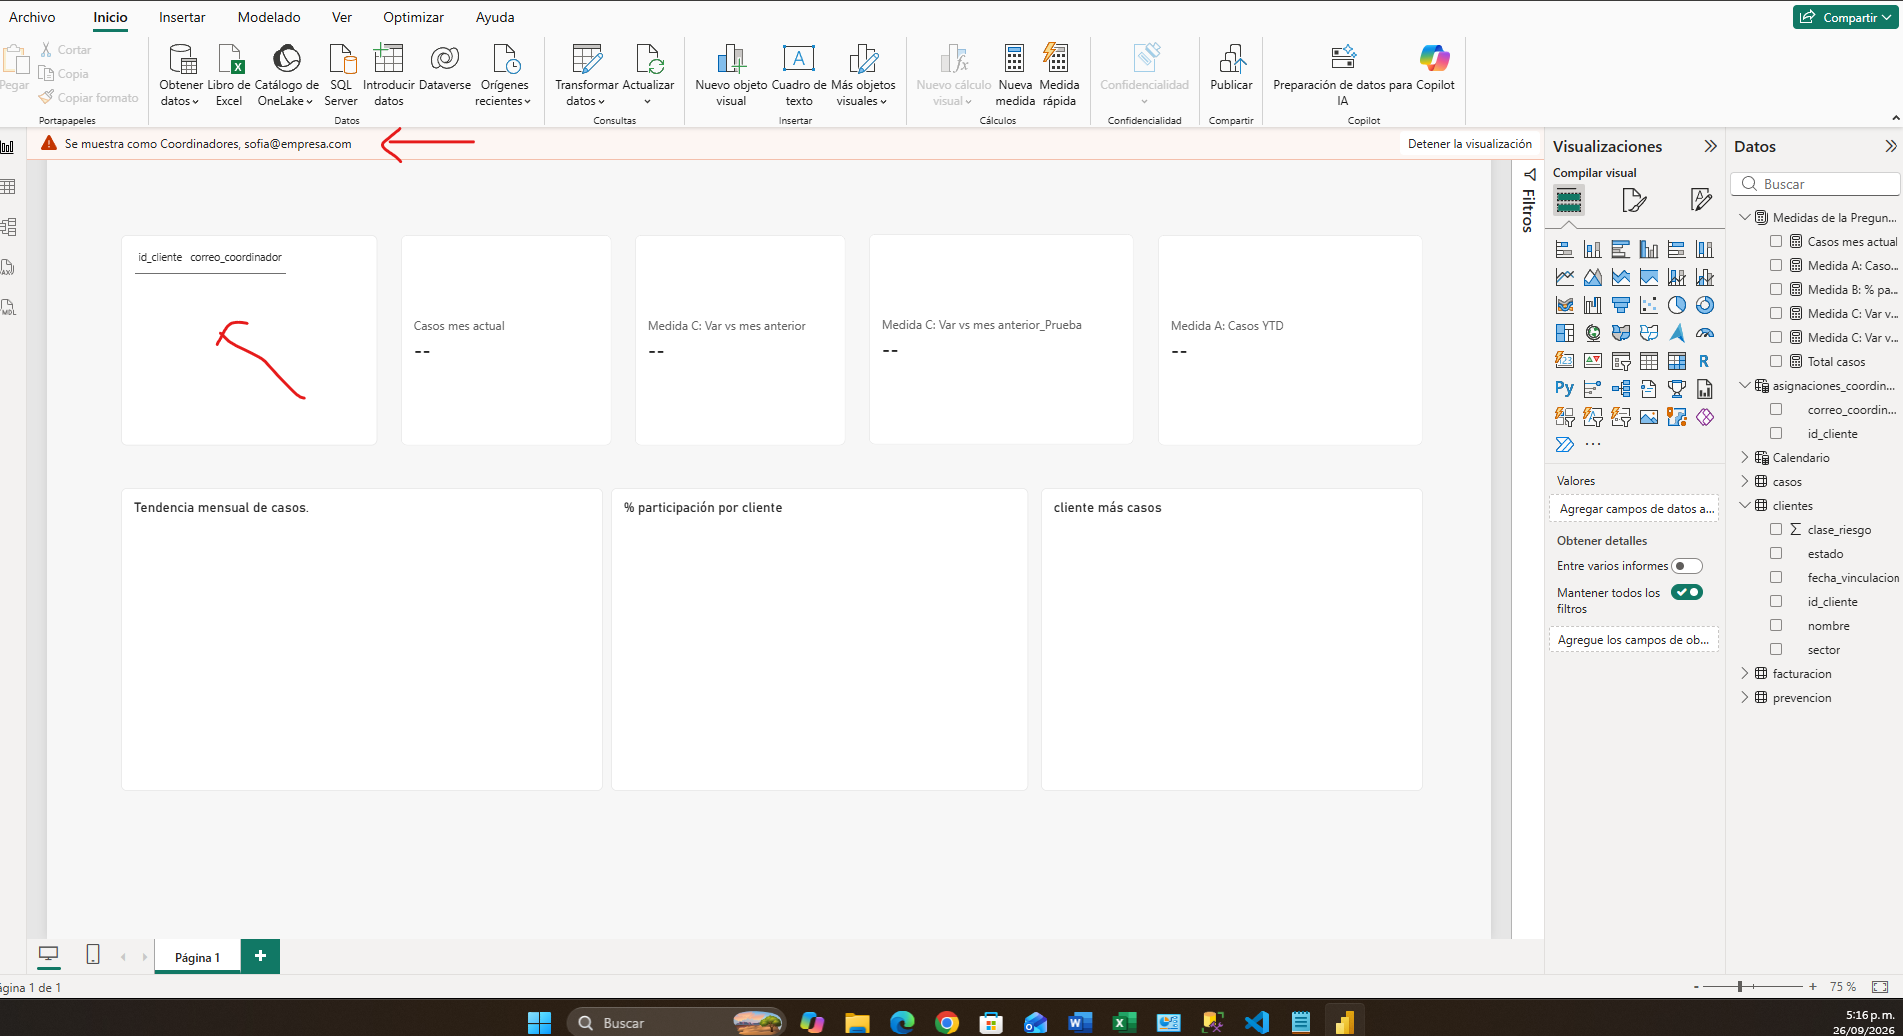

The page's visual inventory and layout, read from the dashboard file:
{"tool":"powerbi","page":{"name":"Página 1","canvas":[1920,1080],"ordinal":0},"visuals":[{"type":"cardVisual","fields":{"Data":["Medidas de la Pregunta 1_5.Casos mes actual"]},"box":[470.4,143.1,280,280],"z":0},{"type":"cardVisual","fields":{"Data":["Medidas de la Pregunta 1_5.Medida C: Var vs mes anterior"]},"box":[781.7,143.1,280,280],"z":1},{"type":"cardVisual","fields":{"Data":["Medidas de la Pregunta 1_5.Medida C: Var vs mes anterior_Prueba"]},"box":[1093.1,141.7,352.9,280.4],"z":2},{"type":"cardVisual","fields":{"Data":["Medidas de la Pregunta 1_5.Medida A: Casos YTD"]},"box":[1477.3,143.2,352.9,280.4],"z":3},{"type":"lineChart","title":"Tendencia mensual de casos.","fields":{"Category":["Calendario.AñoMes"],"Y":["Medidas de la Pregunta 1_5.Total casos"]},"box":[98.3,480.6,641.2,402.5],"z":4},{"type":"clusteredColumnChart","title":"% participación por cliente","fields":{"Category":["clientes.clase_riesgo"],"Y":["Medidas de la Pregunta 1_5.Total casos"]},"box":[749.6,480.6,555,402.5],"z":5},{"type":"clusteredBarChart","title":"cliente más casos","fields":{"Category":["clientes.nombre"],"Y":["Medidas de la Pregunta 1_5.Medida B: % participación"]},"box":[1322.1,480.6,507.5,402.5],"z":6},{"type":"tableEx","fields":{"Values":["asignaciones_coordinador.id_cliente","asignaciones_coordinador.correo_coordinador"]},"box":[98,143.1,341,280],"z":7}]}

Visuals, with their boxes on the page's 1920x1080 design canvas (x1, y1, x2, y2). These are canvas units, not pixel positions in the 1903x1036 screenshot, which may show the page scaled, cropped or inside an application window:
cardVisual - Medidas de la Pregunta 1_5.Casos mes actual: select_region(470, 143, 750, 423)
cardVisual - Medidas de la Pregunta 1_5.Medida C: Var vs mes anterior: select_region(782, 143, 1062, 423)
cardVisual - Medidas de la Pregunta 1_5.Medida C: Var vs mes anterior_Prueba: select_region(1093, 142, 1446, 422)
cardVisual - Medidas de la Pregunta 1_5.Medida A: Casos YTD: select_region(1477, 143, 1830, 424)
"Tendencia mensual de casos." lineChart: select_region(98, 481, 740, 883)
"% participación por cliente" clusteredColumnChart: select_region(750, 481, 1305, 883)
"cliente más casos" clusteredBarChart: select_region(1322, 481, 1830, 883)
tableEx - asignaciones_coordinador.id_cliente x asignaciones_coordinador.correo_coordinador: select_region(98, 143, 439, 423)
